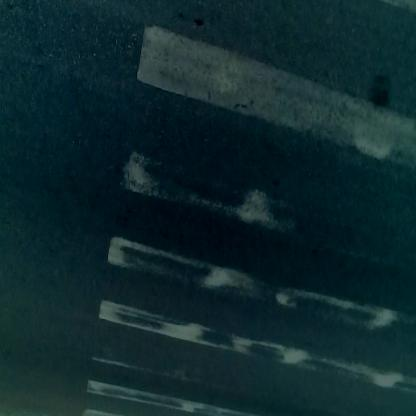crosswalk: (82, 28, 395, 409)
